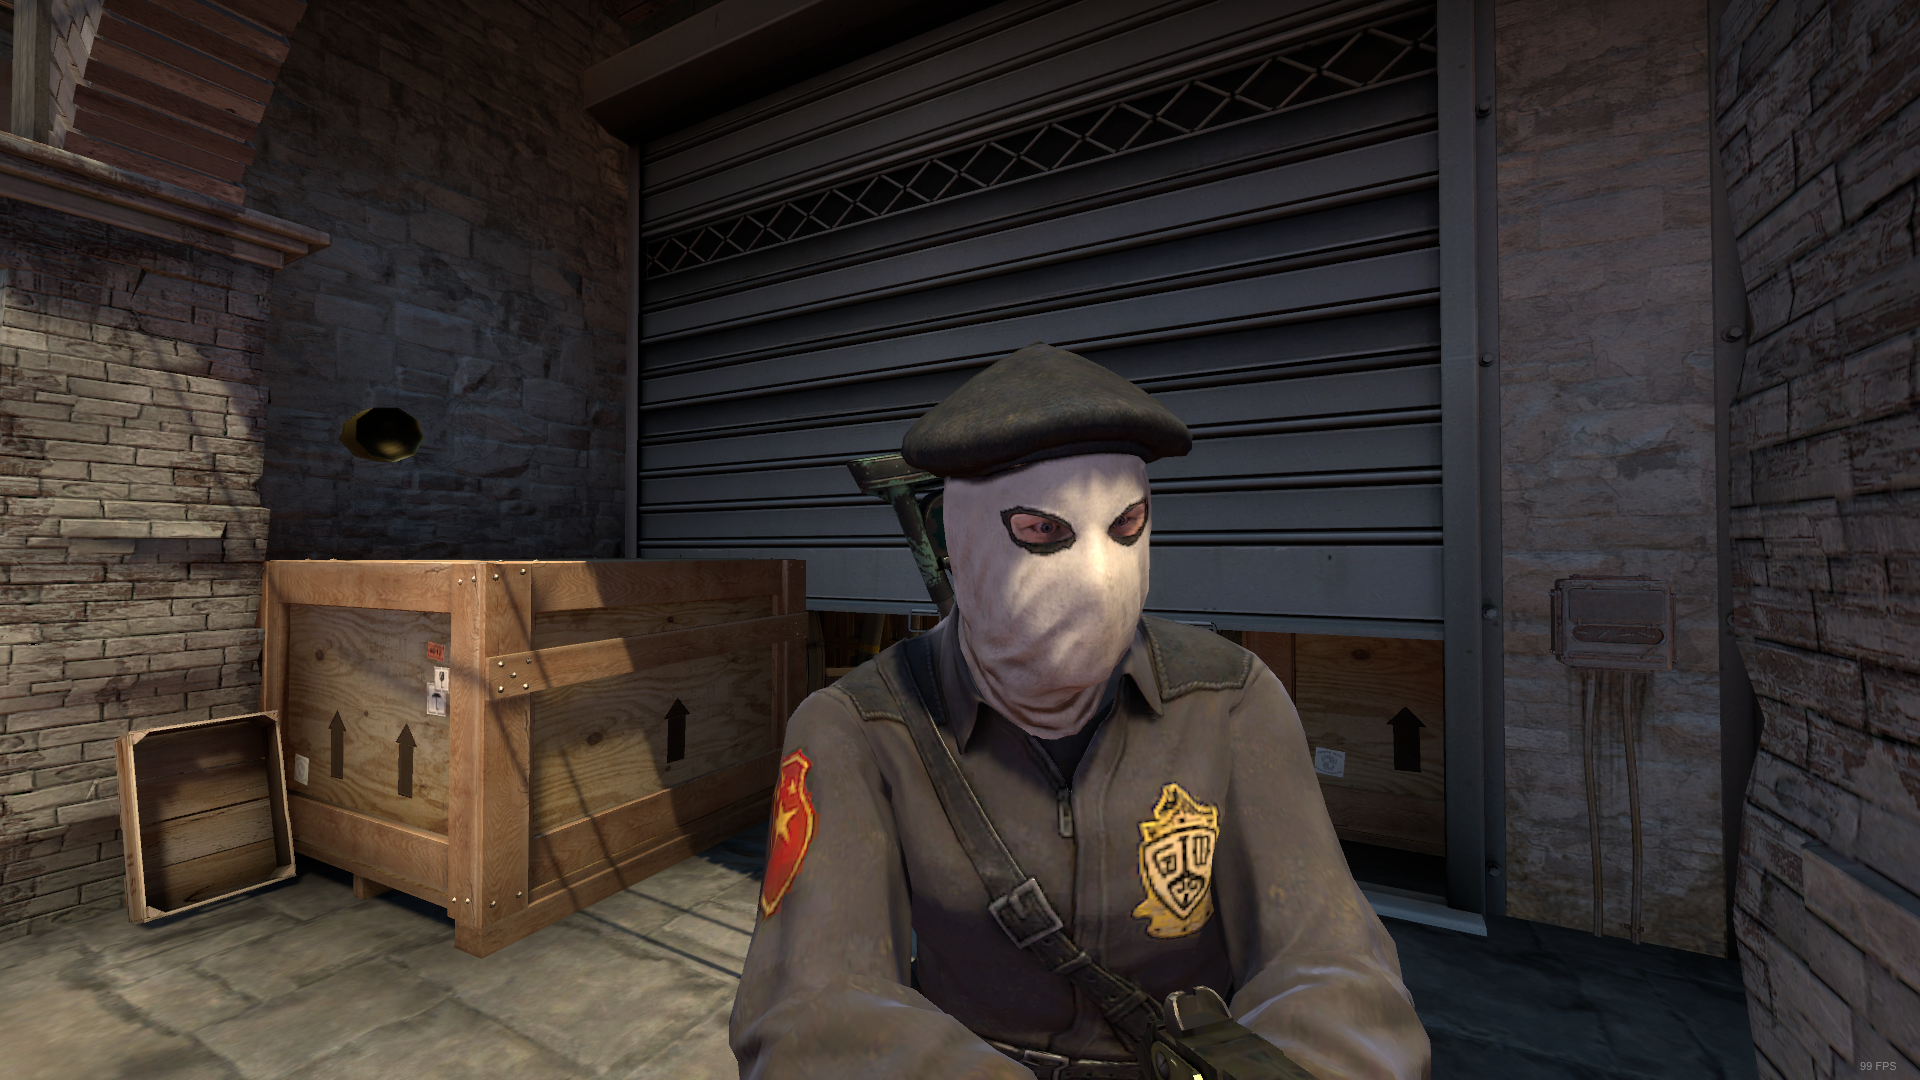t: (732, 342, 1432, 1080)
